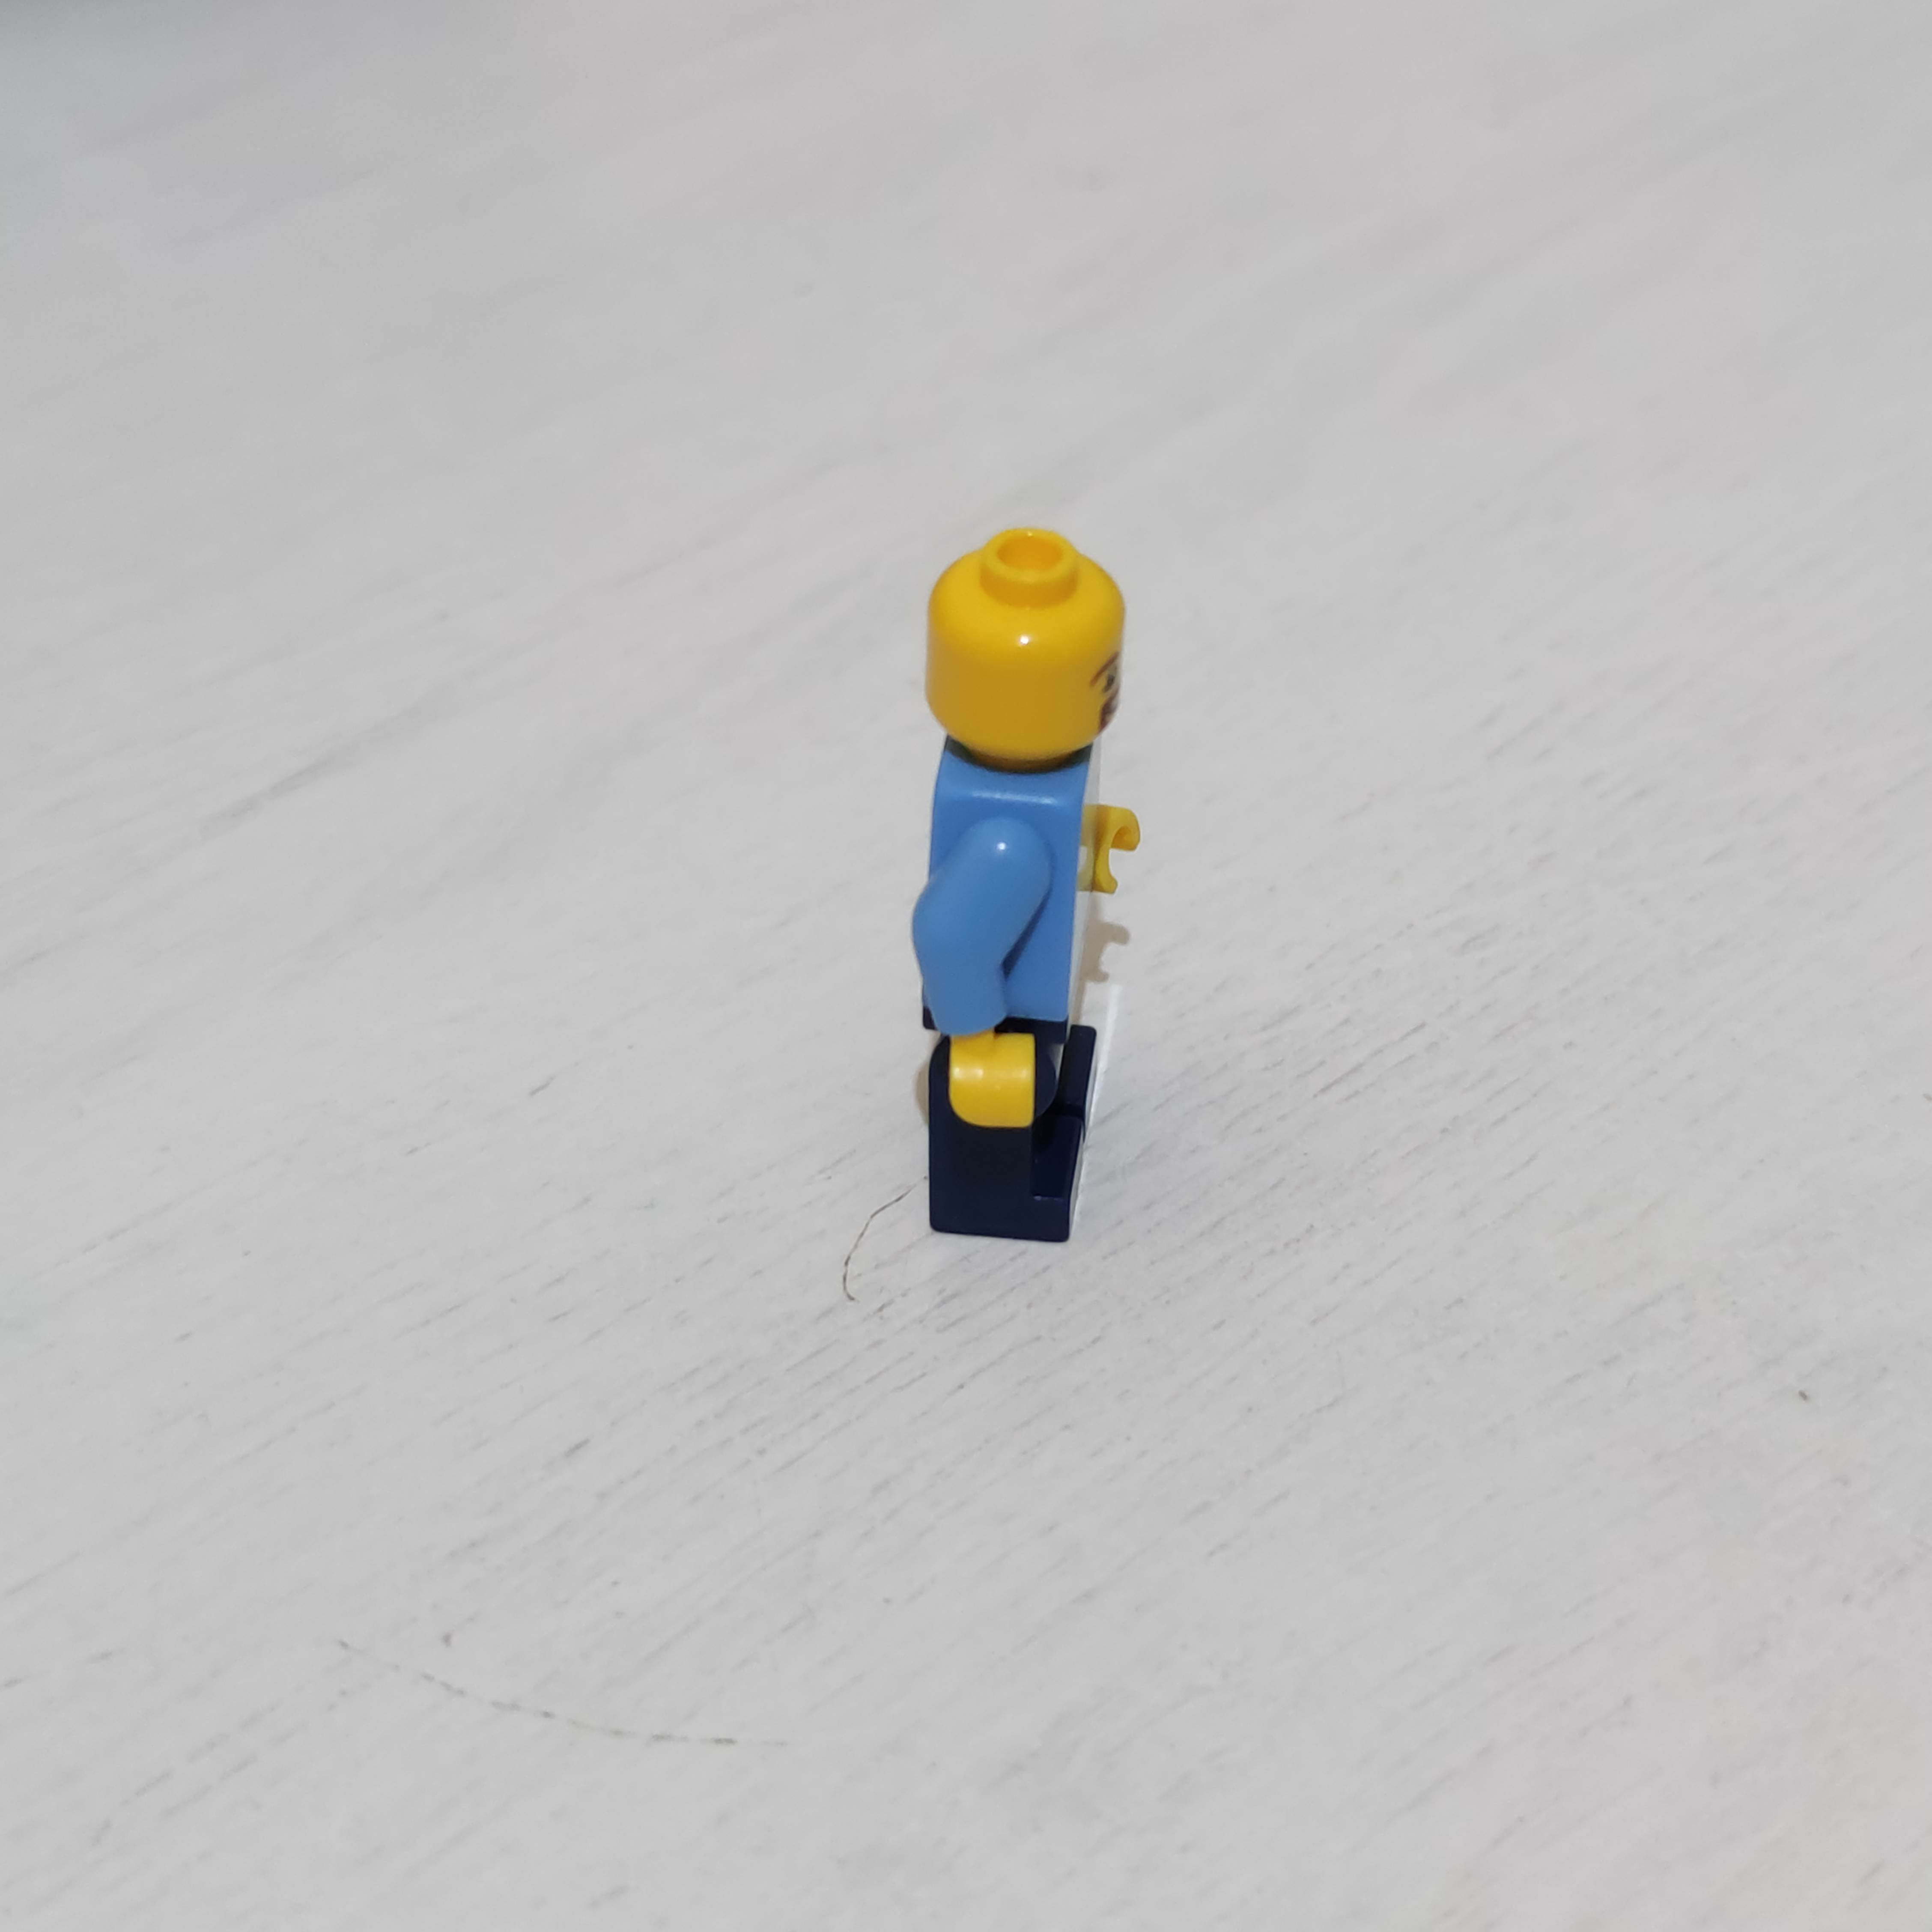lego: (904, 531, 1141, 1246)
